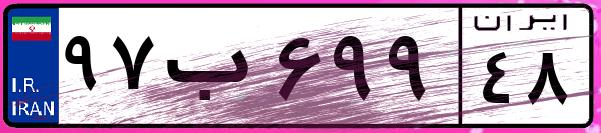4: (475, 38, 525, 113)
6: (270, 28, 330, 110)
7: (110, 28, 158, 98)
8: (525, 38, 570, 115)
9: (385, 28, 445, 110), (330, 28, 385, 110), (57, 26, 110, 100)
ب: (158, 20, 270, 120)
